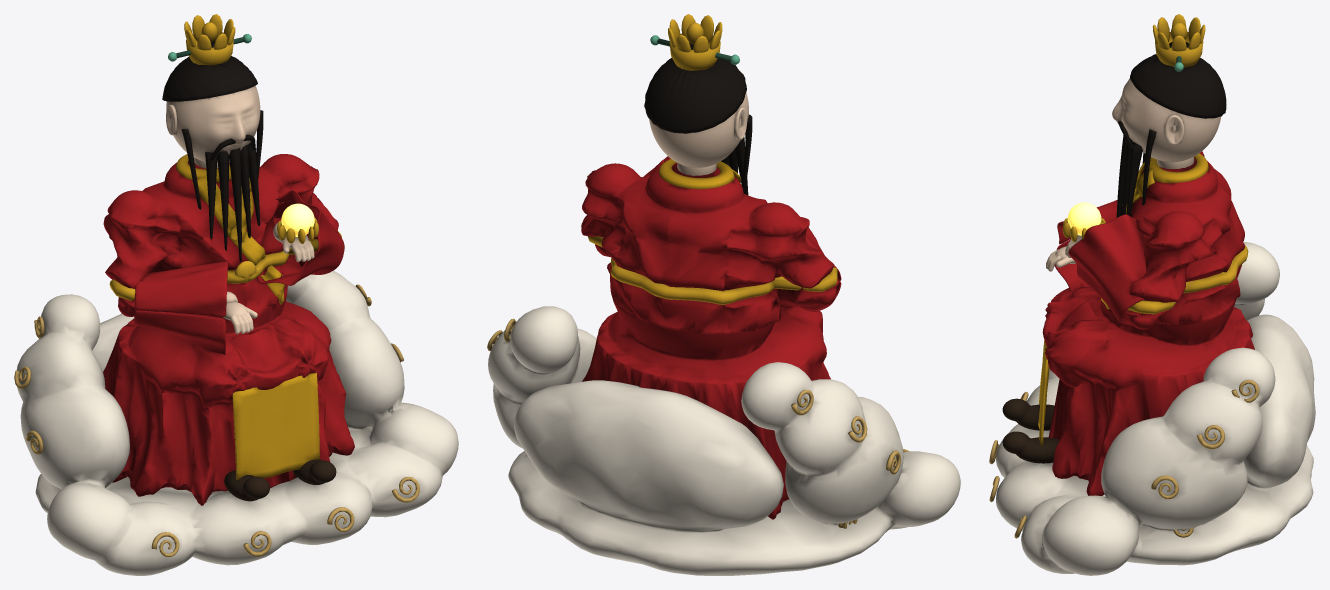
Rendered from yuanshi.glb.
The picture shows the model from 3 angles, left to right: view 1: azimuth 30°, elevation 25°; view 2: azimuth 150°, elevation 25°; view 3: azimuth 270°, elevation 25°; orthographic projection. The views are drawn at different scales.
Parts seen in each view (by area): view 1: YU_Cloud, YU_Robe, YU_Apron, YU_SleeveL, YU_Beard, YU_HeadMesh, YU_HairCap, YU_SleeveR, YU_CloudGold, YU_Crown, YU_Lapel, YU_Boots (+3 smaller); view 2: YU_Cloud, YU_Robe, YU_HairCap, YU_Belt, YU_HeadMesh, YU_Crown, YU_CloudGold, YU_Collar, YU_Beard, YU_SleeveL; view 3: YU_Cloud, YU_Robe, YU_SleeveR, YU_HairCap, YU_HeadMesh, YU_Boots, YU_Crown, YU_Beard, YU_CloudGold, YU_Belt, YU_SleeveL, YU_Collar (+4 smaller).
Boxes of the visible parts, x1=… form: YU_Cloud: x1=16, y1=270, x2=458, y2=575; YU_Robe: x1=103, y1=154, x2=354, y2=505; YU_Apron: x1=232, y1=372, x2=319, y2=480; YU_SleeveL: x1=134, y1=261, x2=228, y2=355; YU_Beard: x1=182, y1=110, x2=263, y2=261; YU_HeadMesh: x1=166, y1=85, x2=260, y2=162; YU_HairCap: x1=162, y1=56, x2=257, y2=101; YU_SleeveR: x1=257, y1=190, x2=344, y2=285; YU_CloudGold: x1=14, y1=284, x2=419, y2=557; YU_Crown: x1=184, y1=14, x2=235, y2=65; YU_Lapel: x1=192, y1=177, x2=284, y2=304; YU_Boots: x1=224, y1=459, x2=336, y2=501; YU_Cloud: x1=488, y1=306, x2=960, y2=575; YU_Robe: x1=581, y1=162, x2=839, y2=519; YU_HairCap: x1=644, y1=58, x2=746, y2=133; YU_Belt: x1=588, y1=236, x2=837, y2=304; YU_HeadMesh: x1=649, y1=92, x2=748, y2=167; YU_Crown: x1=668, y1=14, x2=722, y2=70; YU_CloudGold: x1=487, y1=318, x2=909, y2=528; YU_Collar: x1=658, y1=159, x2=734, y2=189; YU_Beard: x1=721, y1=114, x2=752, y2=195; YU_SleeveL: x1=777, y1=227, x2=841, y2=311; YU_Cloud: x1=996, y1=242, x2=1315, y2=575; YU_Robe: x1=1042, y1=151, x2=1254, y2=495; YU_SleeveR: x1=1068, y1=214, x2=1149, y2=325; YU_HairCap: x1=1130, y1=54, x2=1226, y2=118; YU_HeadMesh: x1=1112, y1=78, x2=1221, y2=162; YU_Boots: x1=1002, y1=398, x2=1058, y2=463; YU_Crown: x1=1152, y1=14, x2=1205, y2=67; YU_Beard: x1=1116, y1=121, x2=1156, y2=217; YU_CloudGold: x1=989, y1=379, x2=1259, y2=538; YU_Belt: x1=1127, y1=245, x2=1248, y2=314; YU_SleeveL: x1=1054, y1=200, x2=1117, y2=291; YU_Collar: x1=1149, y1=153, x2=1208, y2=183.
Size of the model in its own units: 1.91 by 2.23 by 1.35.
